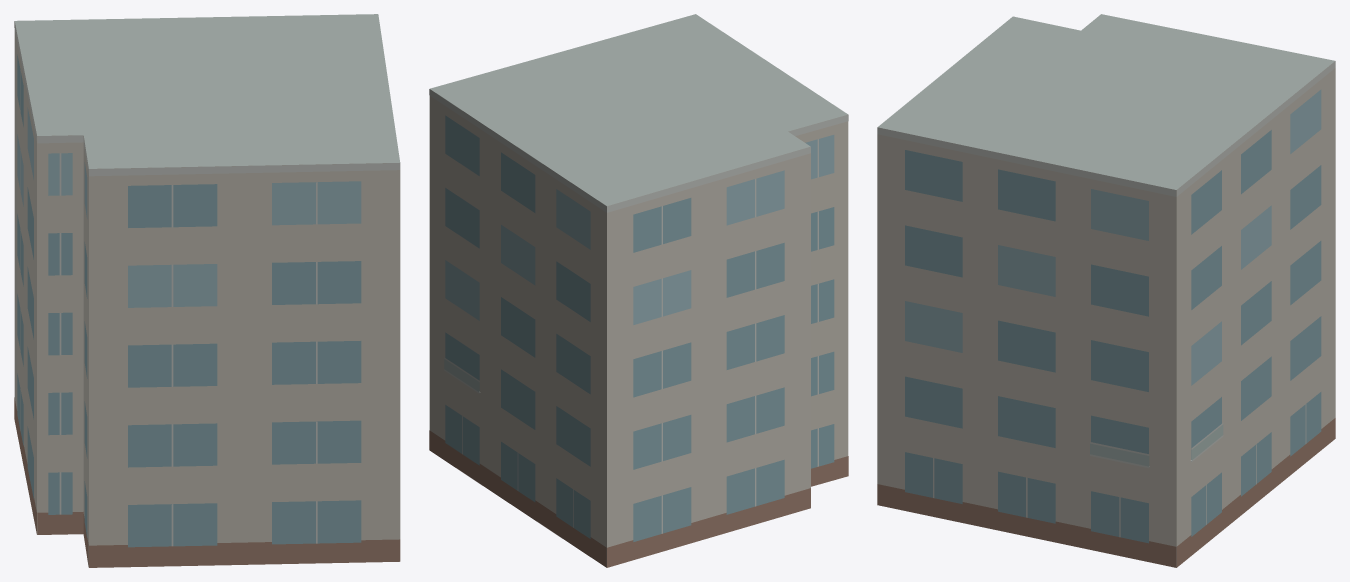
File: survey-upis-32657740.glb
The picture shows the model from 3 angles, left to right: view 1: azimuth 30°, elevation 25°; view 2: azimuth 150°, elevation 25°; view 3: azimuth 270°, elevation 25°; orthographic projection. The views are drawn at different scales.
Visible parts, largest first — view 1: survey-upis-32657740.tmp; view 2: survey-upis-32657740.tmp; view 3: survey-upis-32657740.tmp.
Part boxes in pixels (x1,y1,x2,y2): survey-upis-32657740.tmp: (14,14,400,567); survey-upis-32657740.tmp: (429,14,848,567); survey-upis-32657740.tmp: (877,14,1335,567).
Size of the model in its own units: 13.3 by 13.3 by 14.63.
